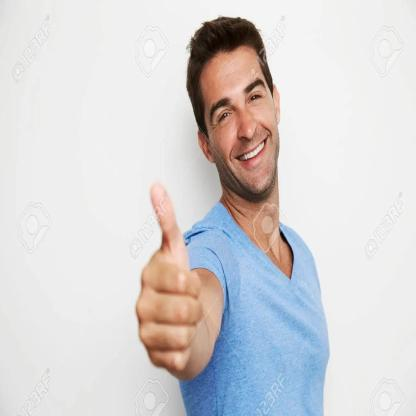Thumbs-Up: (104, 172, 224, 374)
